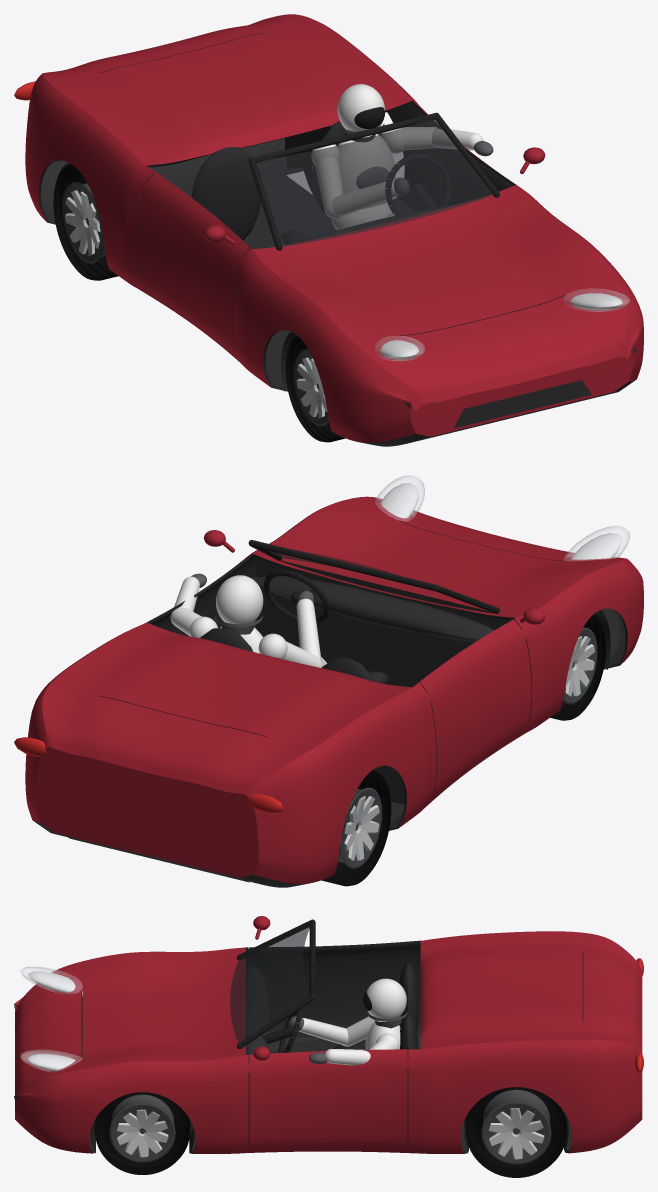
File: roadster1_starman.glb
The picture shows the model from 3 angles, top to bottom: view 1: azimuth 30°, elevation 25°; view 2: azimuth 150°, elevation 25°; view 3: azimuth 270°, elevation 25°; orthographic projection. The views are drawn at different scales.
Parts seen in each view (by area): view 1: Body, Windshield, Starman, Wheel_RR, Wheel_FR, SteeringWheel; view 2: Body, Starman, Wheel_RR, Wheel_FR, SteeringWheel; view 3: Body, Wheel_RL, Wheel_FL, Windshield, Starman, SteeringWheel.
Boxes of the visible parts, box(x1,y1,x2,y2) form: Body: box(14, 14, 643, 446); Windshield: box(256, 119, 493, 246); Starman: box(311, 84, 493, 229); Wheel_RR: box(53, 164, 118, 280); Wheel_FR: box(285, 335, 345, 442); SteeringWheel: box(385, 154, 450, 215); Body: box(14, 475, 643, 887); Starman: box(170, 573, 327, 667); Wheel_RR: box(321, 769, 391, 886); Wheel_FR: box(550, 614, 605, 720); SteeringWheel: box(263, 570, 329, 623); Body: box(14, 916, 643, 1153); Wheel_RL: box(466, 1087, 566, 1177); Wheel_FL: box(95, 1092, 189, 1174); Windshield: box(230, 925, 309, 1043); Starman: box(288, 978, 407, 1065); SteeringWheel: box(262, 1004, 302, 1052).
Bounding box in the file's own units: 2.06 × 1.16 × 3.96.
19 materials, 1 textured.
